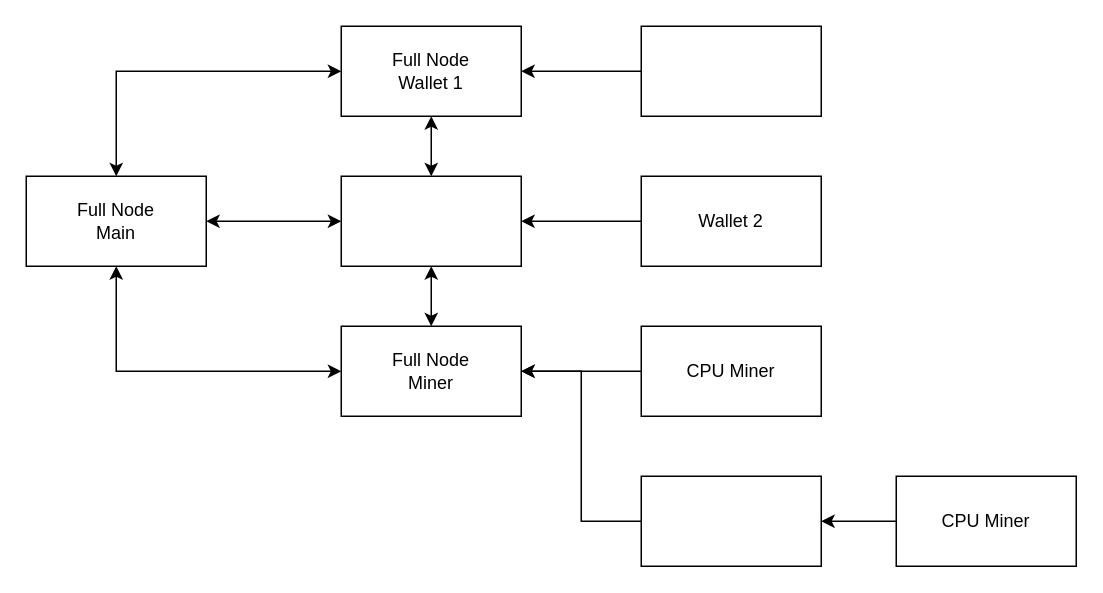
Image size: 1103x593. Some labels were removed from this diagram. Here are the shapes that lost their labels. From the top down, the centre of each, then its label:
At point 730,70: "Wallet 1".
At point 430,220: "Full Node Wallet 2".
At point 730,520: "Tx Mining Service".
